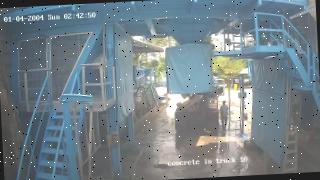cement_mixer_truck: (176, 73, 224, 129)
